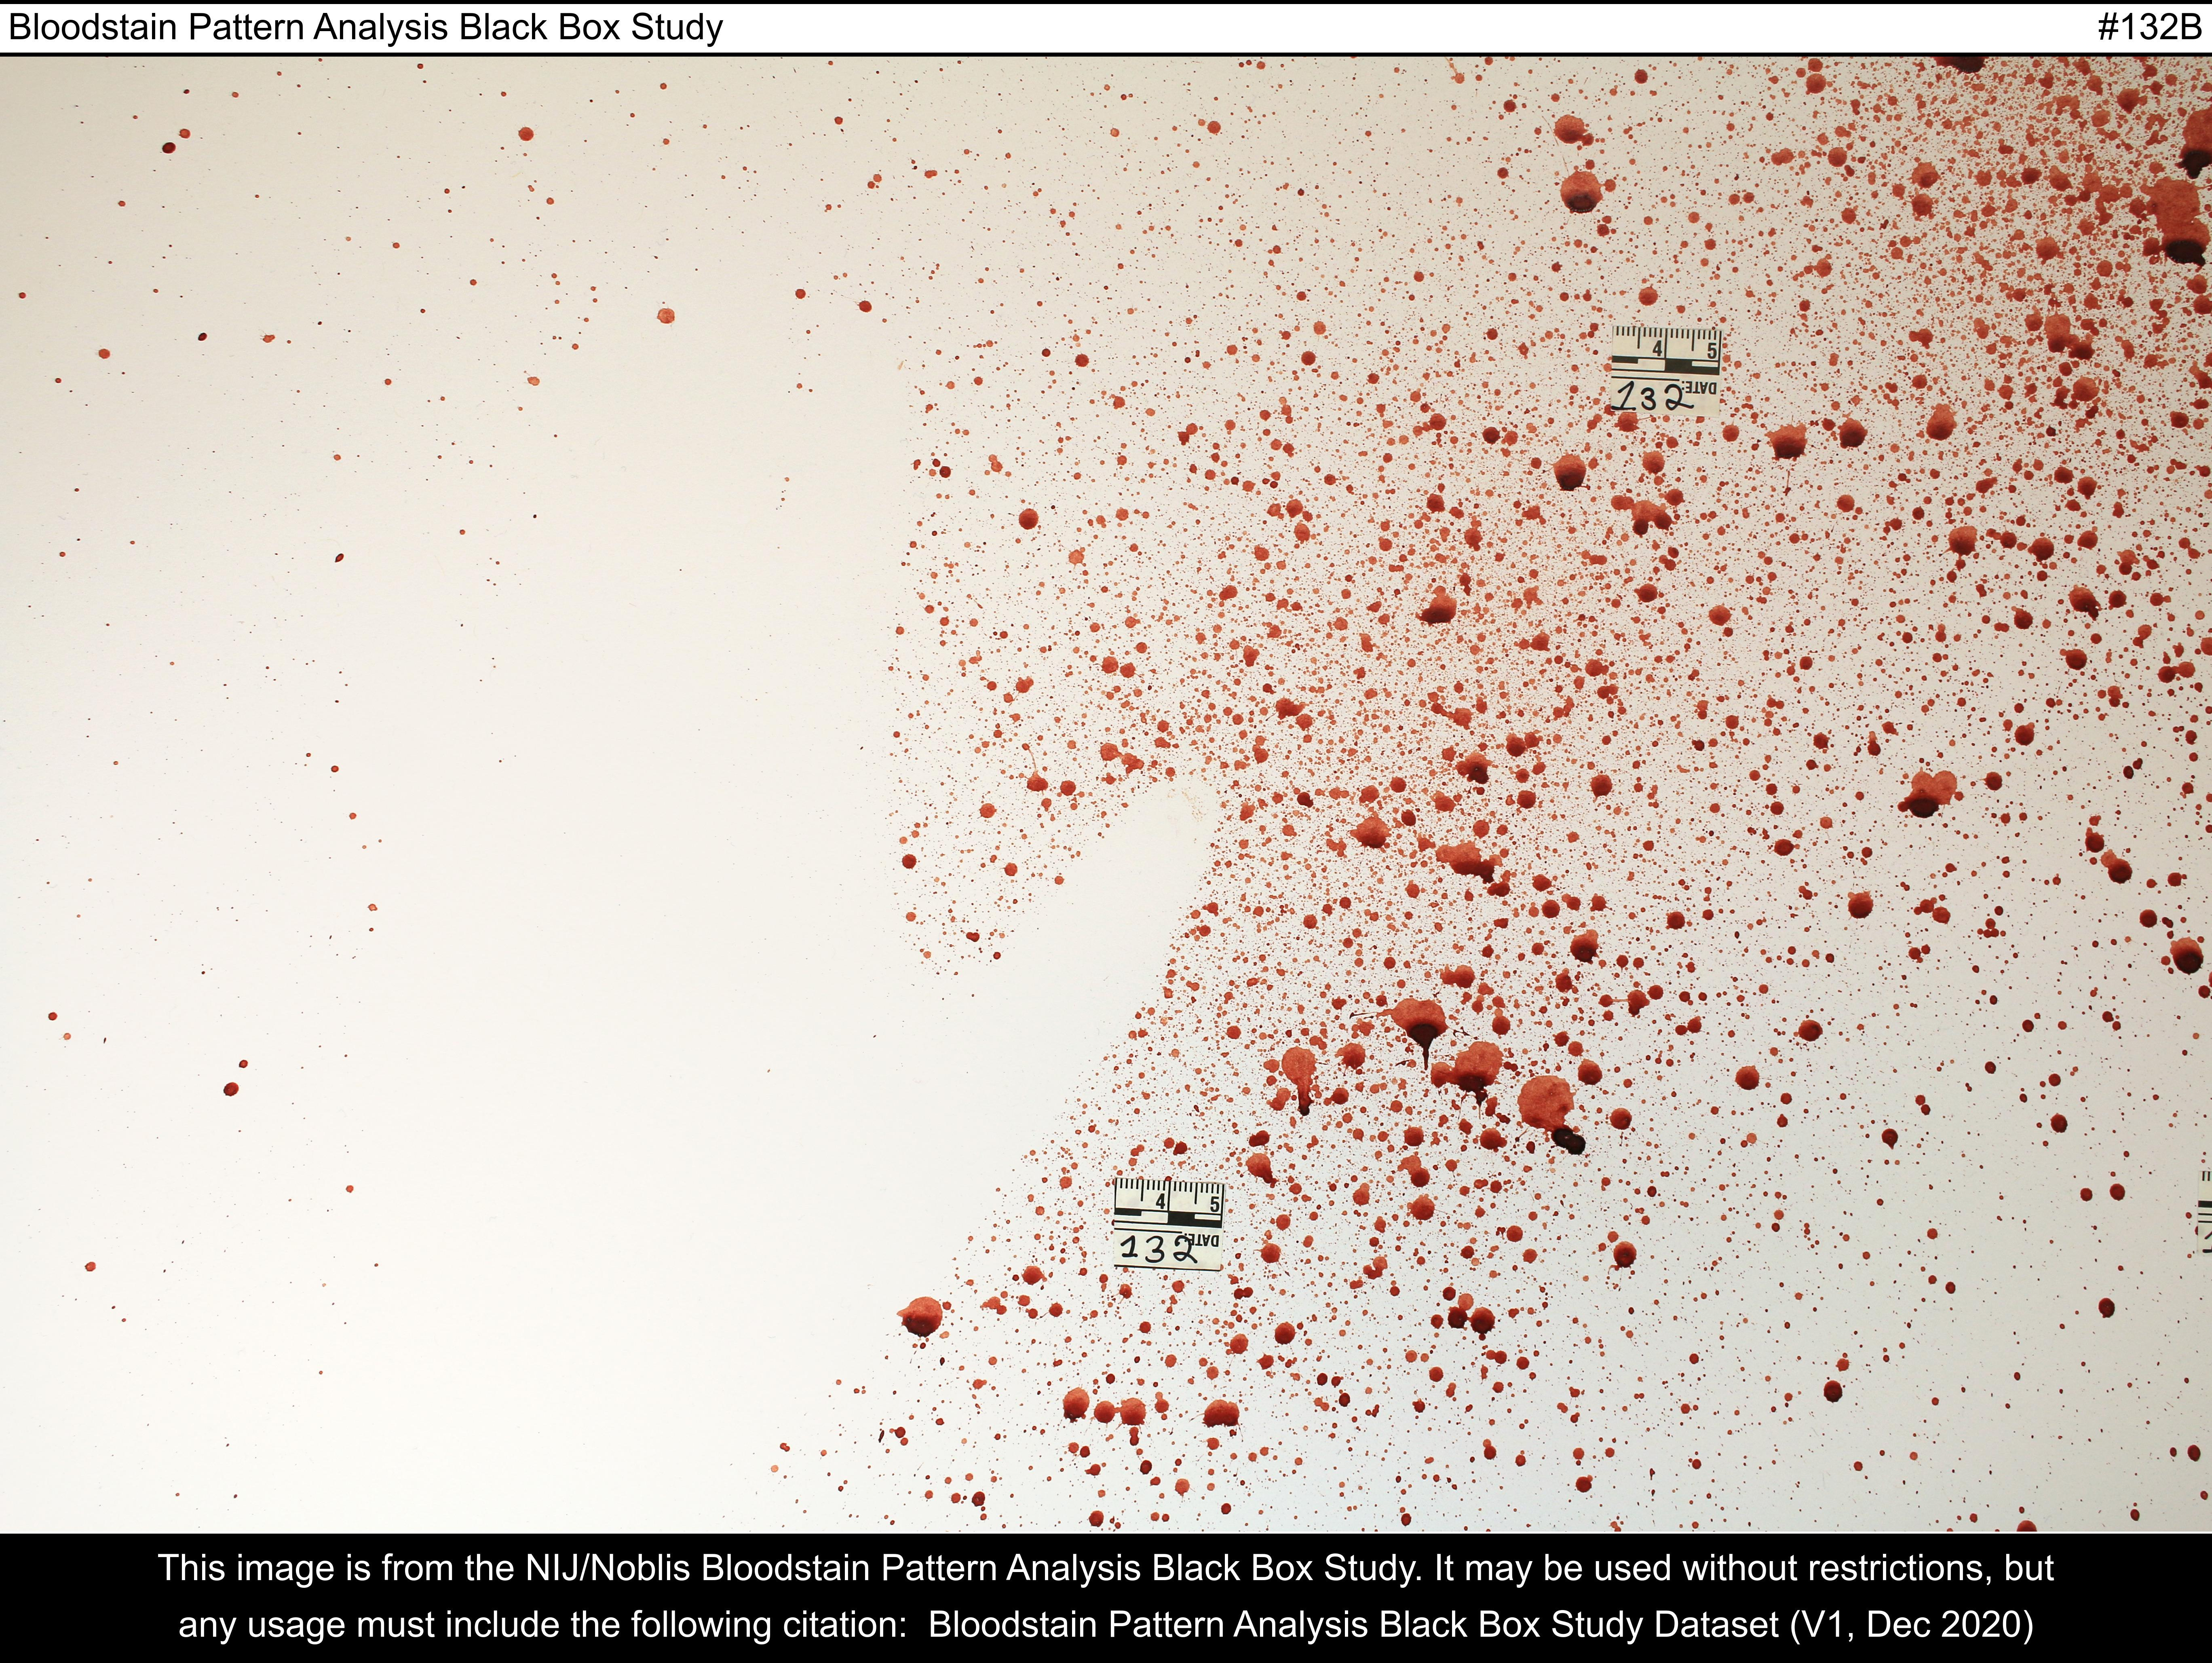Impact: (569, 56, 2212, 1537)
